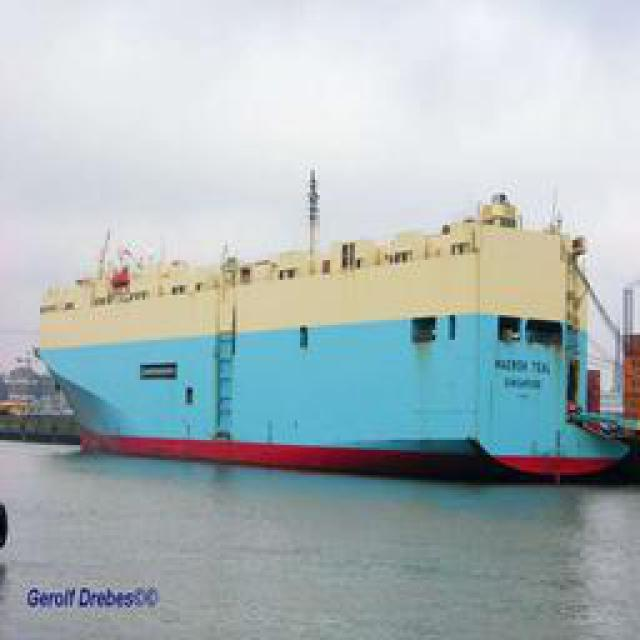Ship: (40, 191, 630, 484)
